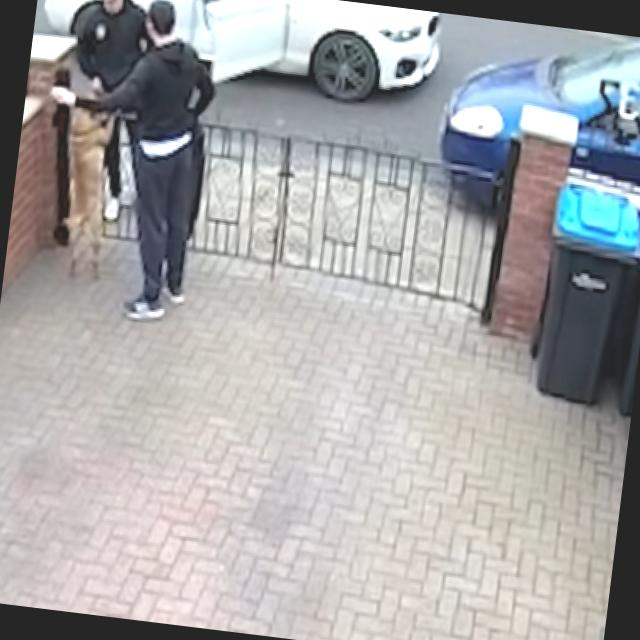person: (25, 0, 226, 325), (52, 0, 161, 223)
